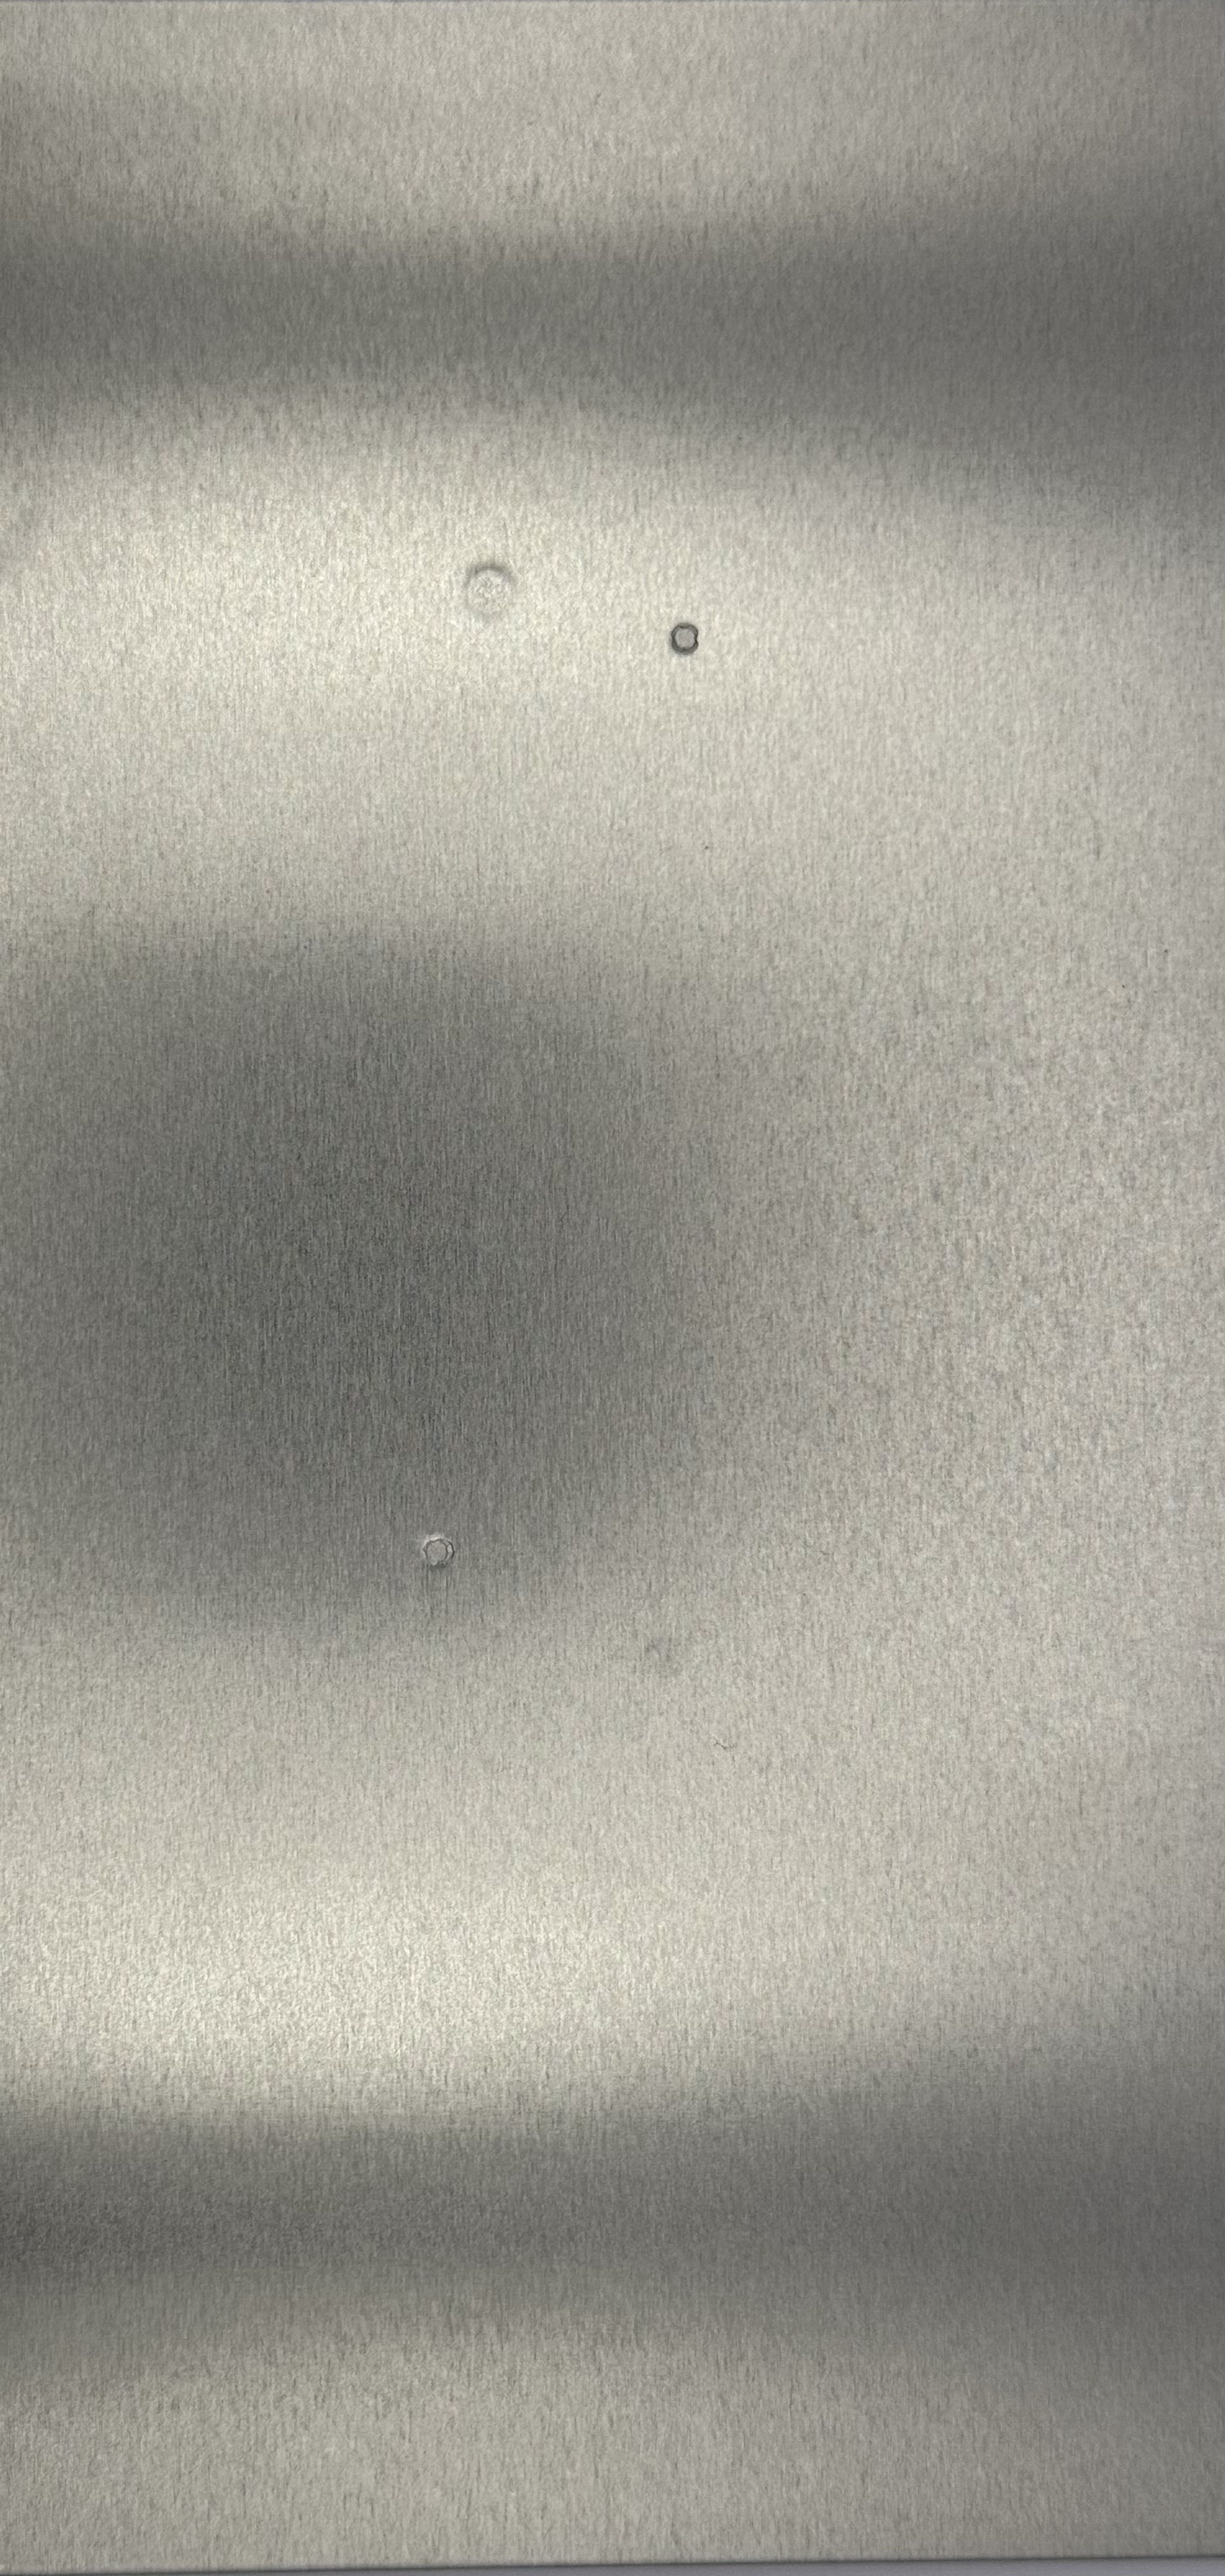Delle: (448, 555, 534, 629), (624, 1623, 706, 1697), (399, 1518, 475, 1584), (657, 611, 714, 667)
